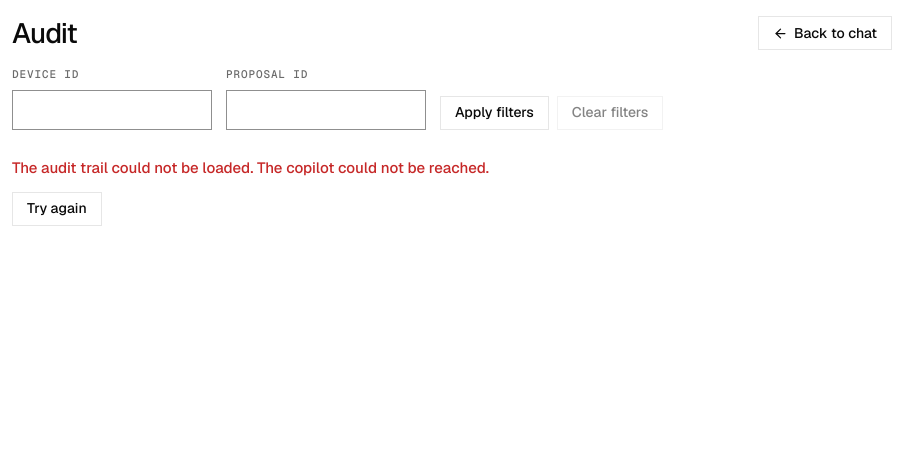
Test: the tenant audit view › shows the failure in words and retries; a 401 ends the session
The image size is (909, 466).
Expected: the message shows "The audit trail could not be loaded.", [12, 158, 257, 177]
Click the button "Try again": (57,209) [12, 192, 102, 226]
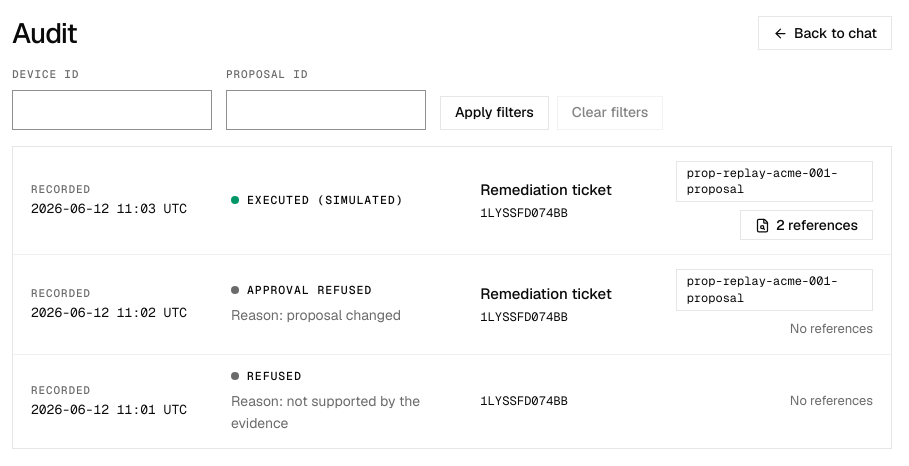
Expected: the number of list items is 3, [13, 147, 891, 254]; [13, 254, 891, 354]; [13, 354, 891, 448]
